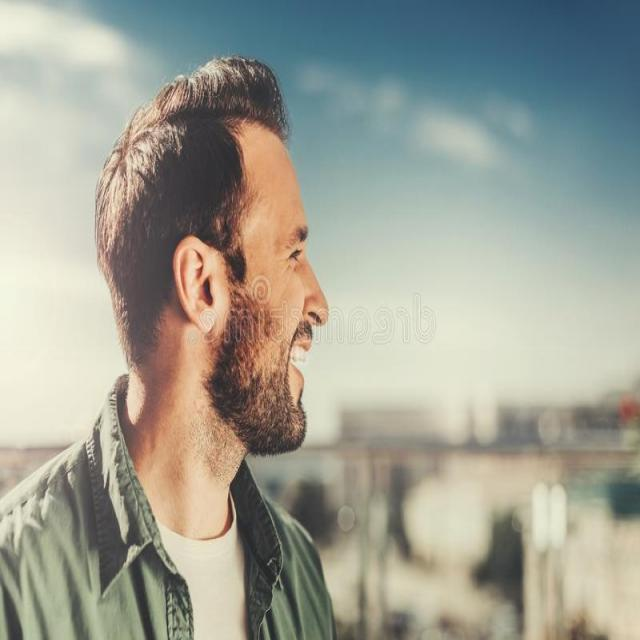Healthy: (126, 347, 232, 529)
